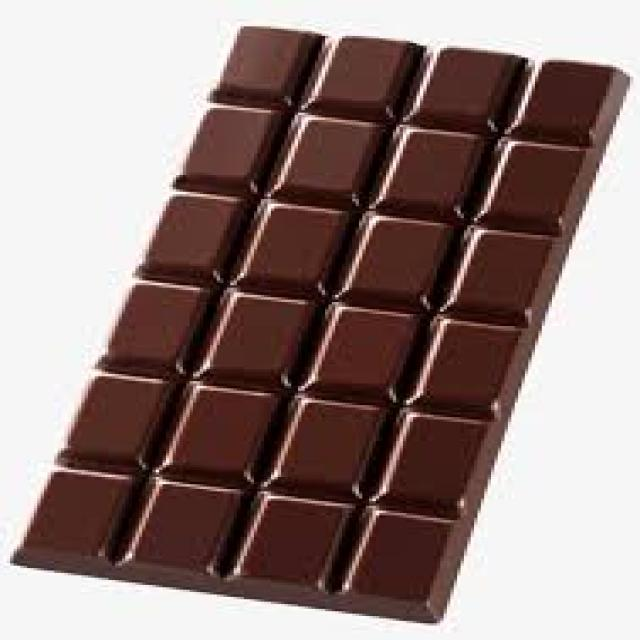Chocolate: (7, 22, 632, 628)
